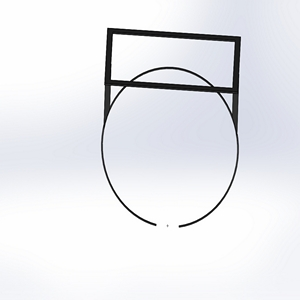circle: (97, 22, 243, 229)
